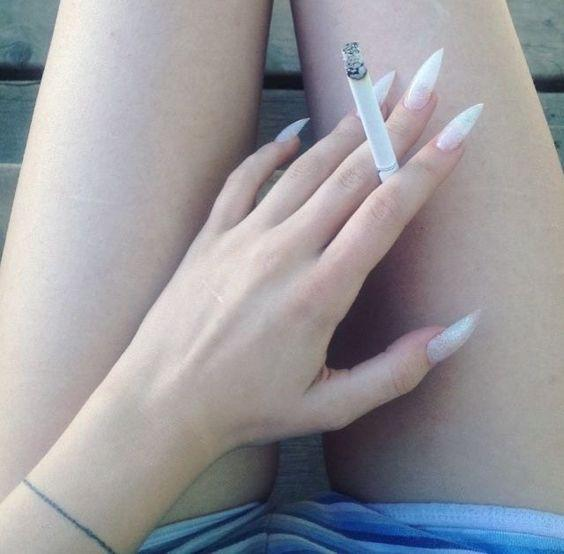cigarette: (341, 43, 399, 180)
